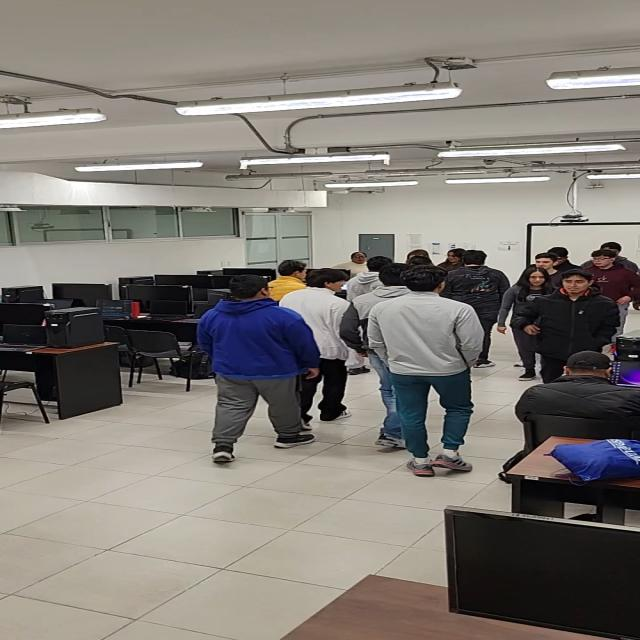Persona: (192, 272, 322, 471), (378, 267, 483, 482), (280, 265, 351, 420), (535, 271, 618, 353), (507, 265, 553, 379), (450, 244, 509, 320)
